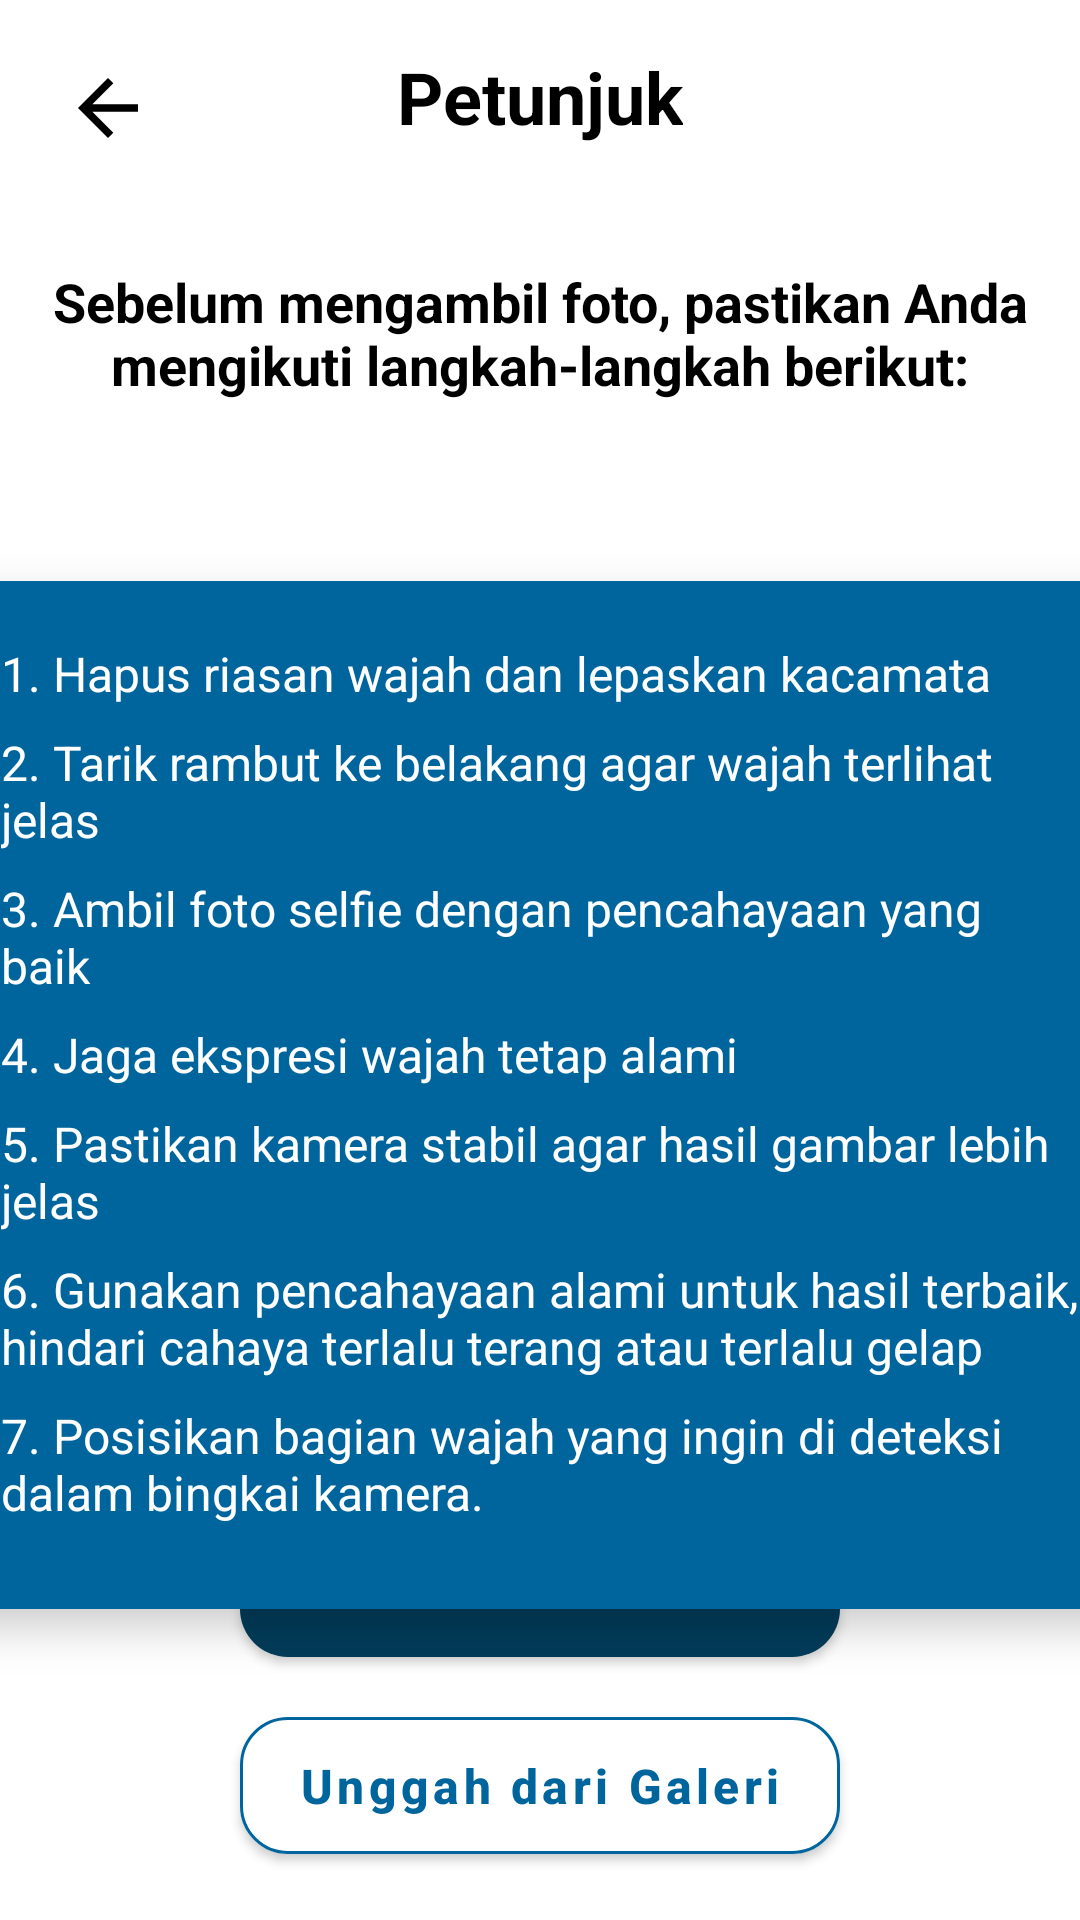

Locate icon controls on the screen. Image size 1080x1920, boxes as (x1,y1,x2,y2).
Back to previous page: (78,78,138,138)
